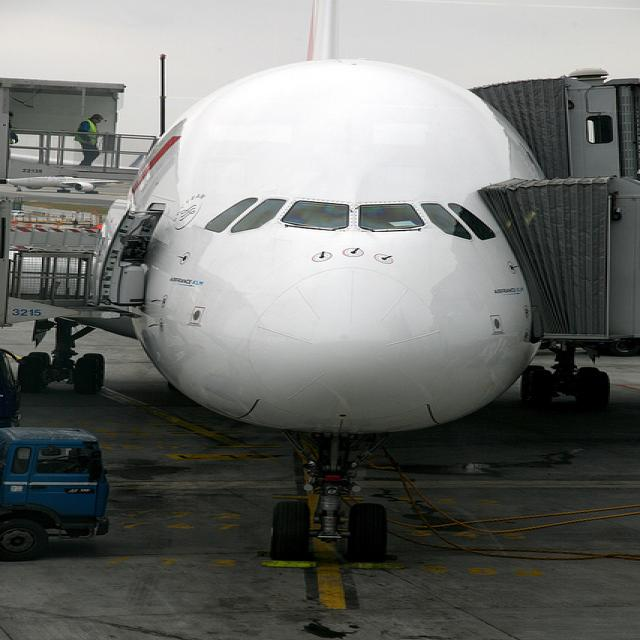Vehicle: (0, 428, 108, 562)
